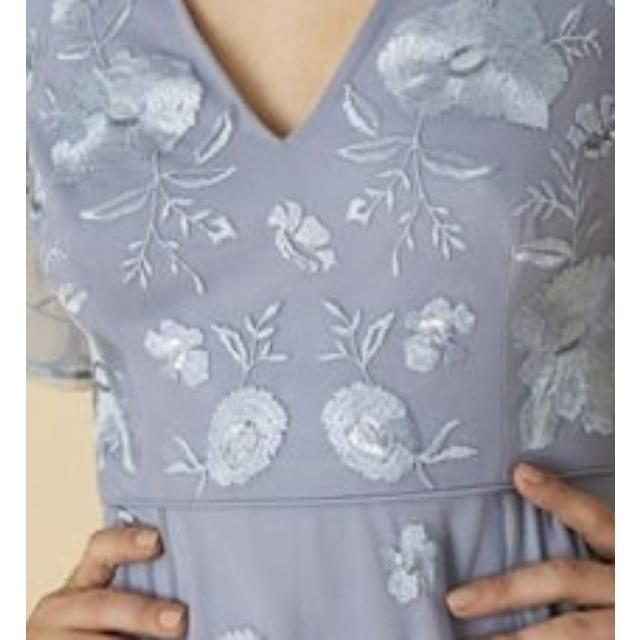polyester: (26, 0, 614, 474)
